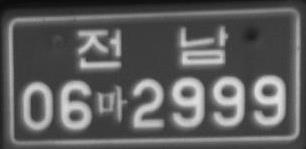0: (22, 80, 54, 130)
2: (132, 77, 165, 128)
6: (59, 79, 93, 130)
9: (171, 76, 205, 128), (252, 74, 286, 126), (212, 75, 245, 128)
마: (97, 83, 128, 123)
전남_D: (76, 24, 229, 70)
